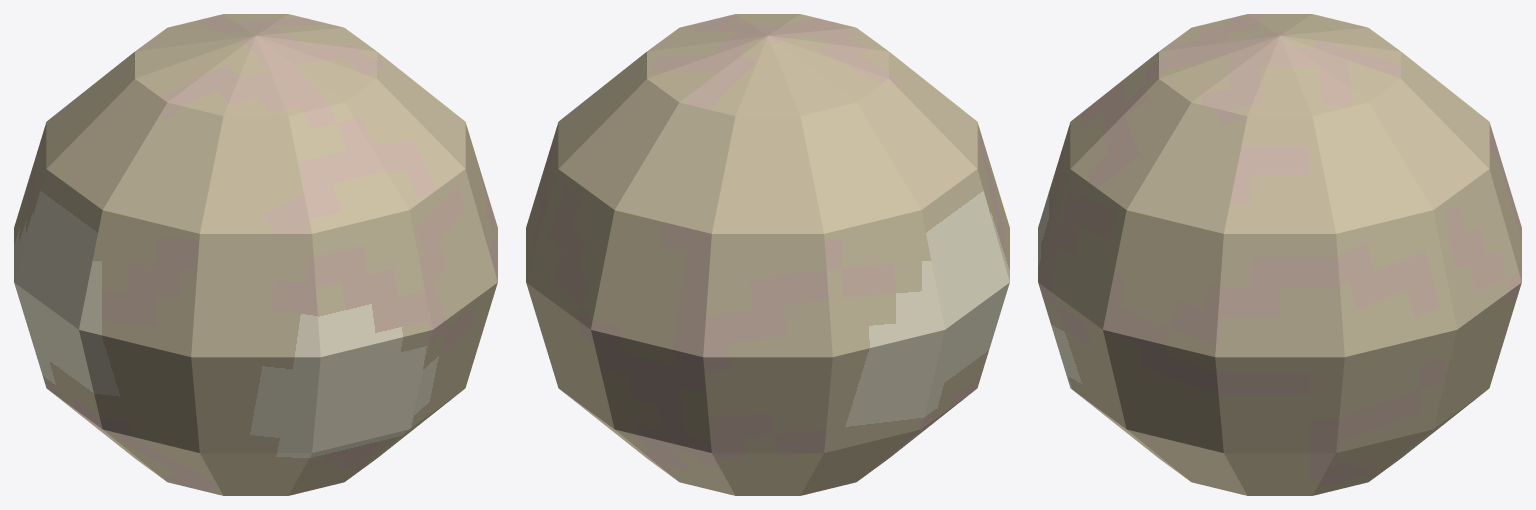
File: biomass.gltf
3 views of the same model, side by side, from view 1: azimuth 30°, elevation 25°; view 2: azimuth 150°, elevation 25°; view 3: azimuth 270°, elevation 25° (orthographic).
Visible parts, largest first — view 1: sphere; view 2: sphere; view 3: sphere.
Part boxes in pixels (x1,y1,x2,y2): sphere: (14, 14, 497, 495); sphere: (526, 14, 1009, 495); sphere: (1038, 14, 1521, 495).
Size of the model in its own units: 1 by 1 by 1.
1 material, 1 textured.
